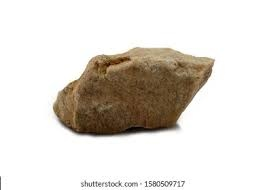obstacle: (53, 48, 213, 133)
